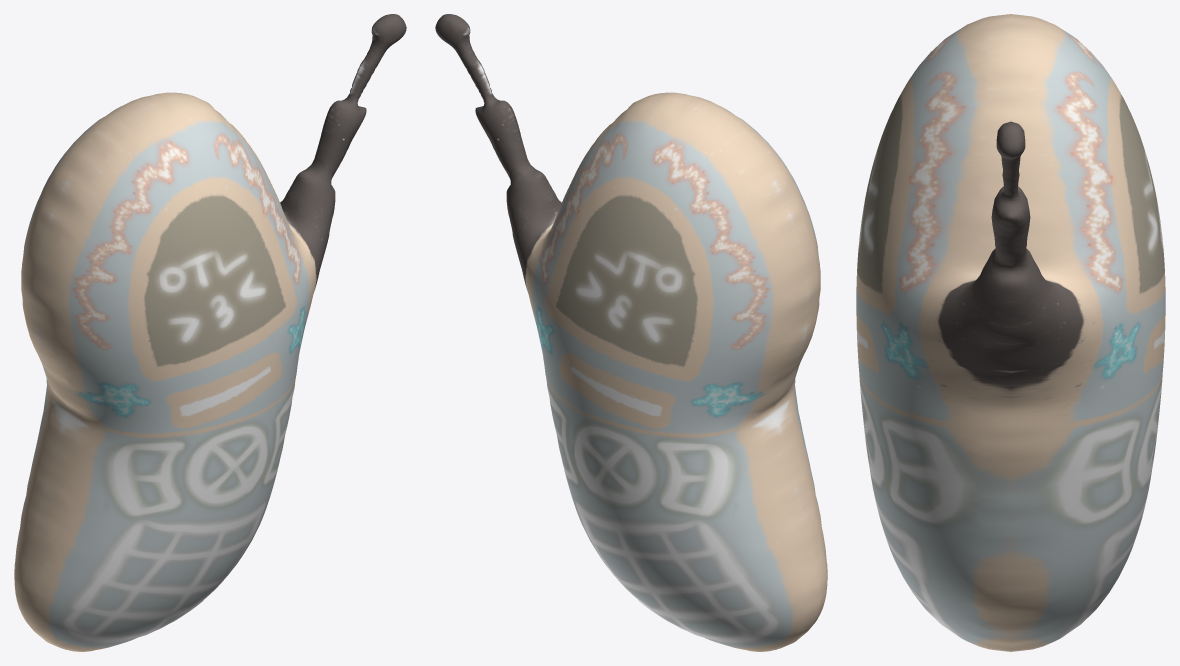
File: Oldphone0.6081a299.glb
3 views of the same model, side by side, from view 1: azimuth 30°, elevation 25°; view 2: azimuth 150°, elevation 25°; view 3: azimuth 270°, elevation 25° (orthographic). The views are drawn at different scales.
Size of the model in its own units: 5.07 by 7.04 by 2.89.
1 material, 1 textured.
